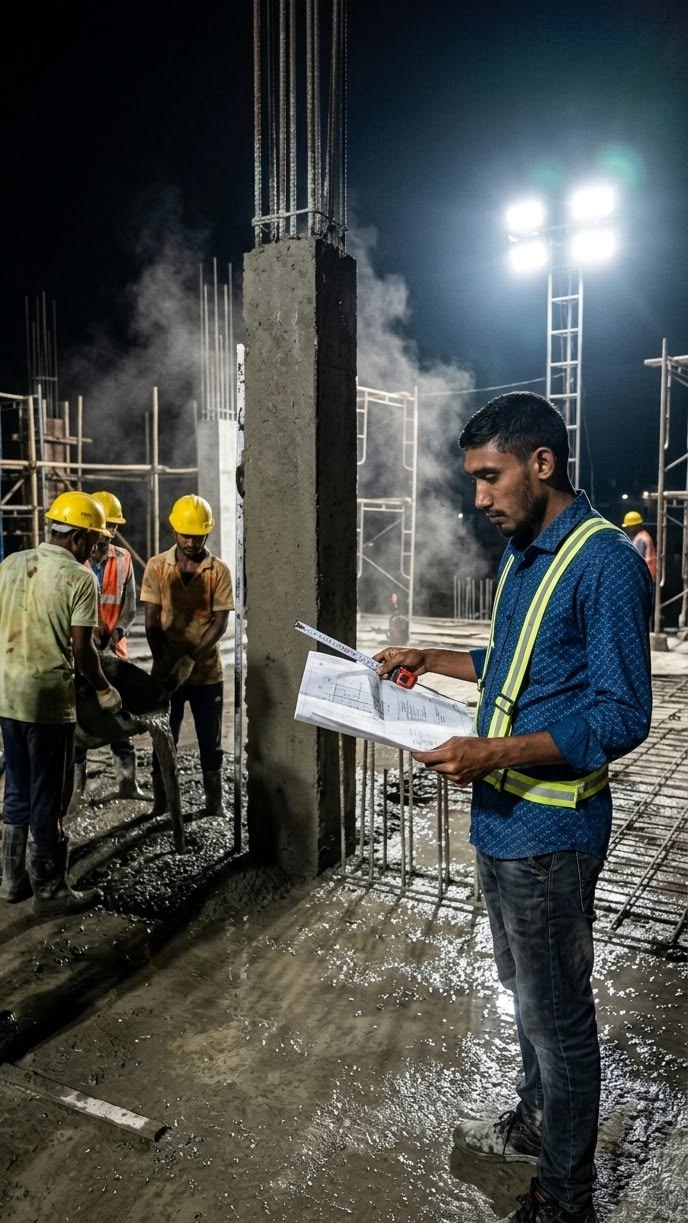hardhat: (153, 493, 229, 557), (38, 480, 98, 542), (93, 486, 144, 535)
no_hardhat: (451, 402, 586, 491)
no_safety_vest: (462, 528, 618, 842), (13, 546, 71, 752), (165, 558, 233, 716)
person: (414, 393, 625, 1213), (142, 489, 274, 817), (11, 489, 87, 933), (82, 473, 160, 766)
safety_vest: (91, 544, 132, 686)
